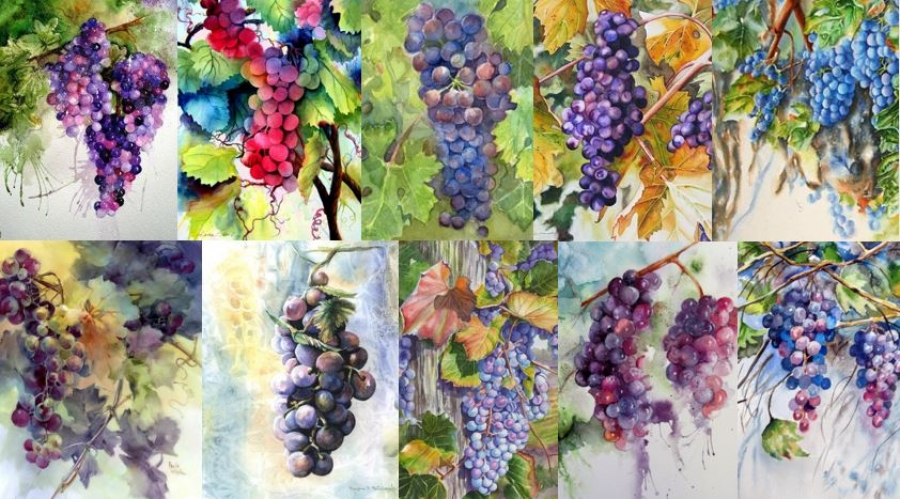Black grapes: (448, 260, 550, 499), (265, 276, 371, 478), (566, 12, 653, 223), (758, 283, 843, 431), (800, 33, 900, 127), (660, 82, 725, 174), (852, 311, 900, 434)
Red Grapes: (407, 8, 514, 237), (53, 17, 170, 225), (215, 12, 326, 194)
